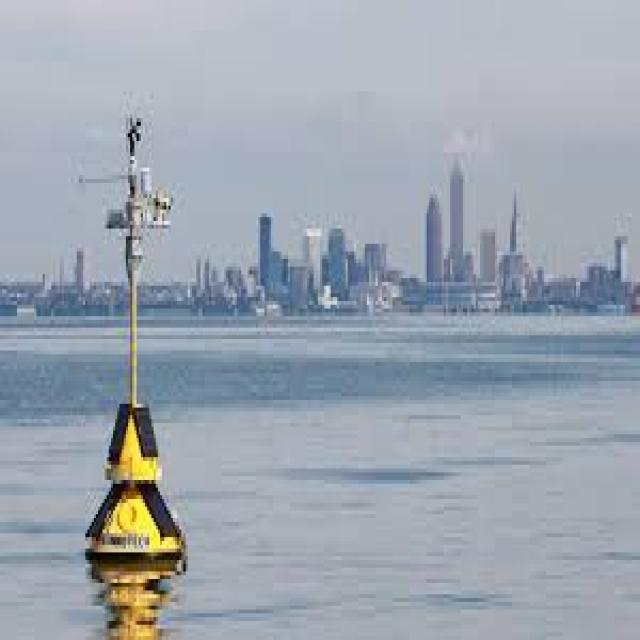marque: (68, 77, 199, 569)
